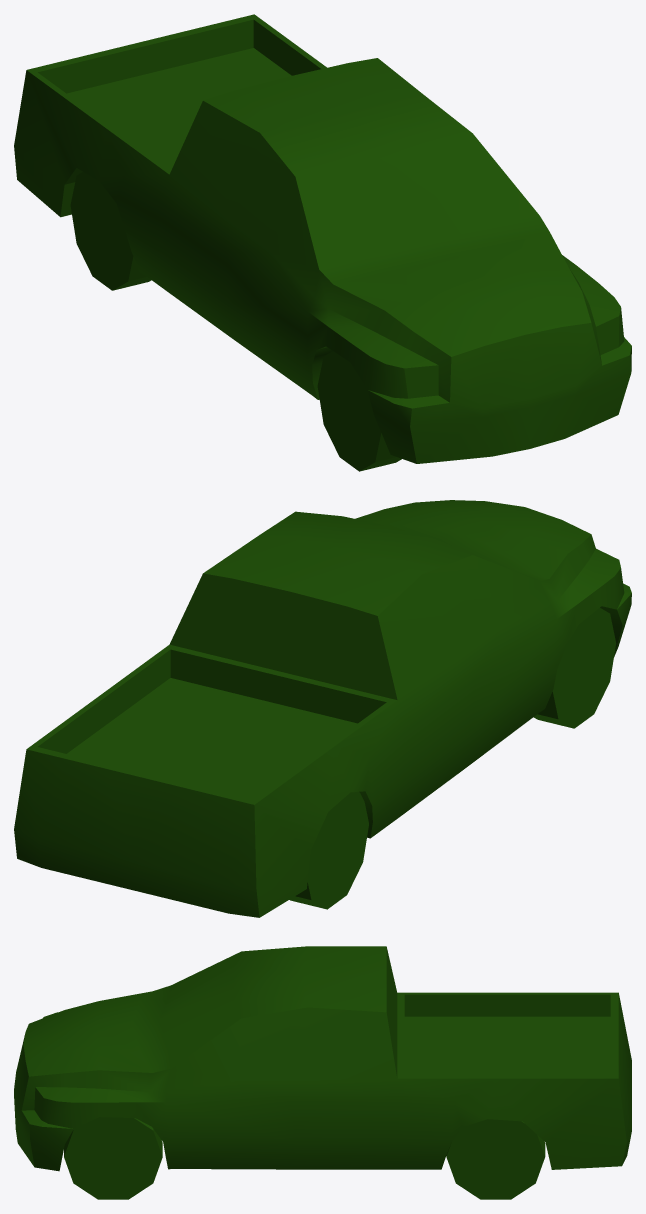
The model's file is Vehicle02B.fbx.
The picture shows the model from 3 angles, top to bottom: view 1: azimuth 30°, elevation 25°; view 2: azimuth 150°, elevation 25°; view 3: azimuth 270°, elevation 25°; orthographic projection. The views are drawn at different scales.
Visible parts, largest first — view 1: Vehicle02B; view 2: Vehicle02B; view 3: Vehicle02B.
Boxes of the visible parts, x1,y1,x2,y2 form: Vehicle02B: (14,14,631,471); Vehicle02B: (14,500,631,917); Vehicle02B: (14,946,631,1199).
Size of the model in its own units: 1.73 by 1.53 by 4.72.
